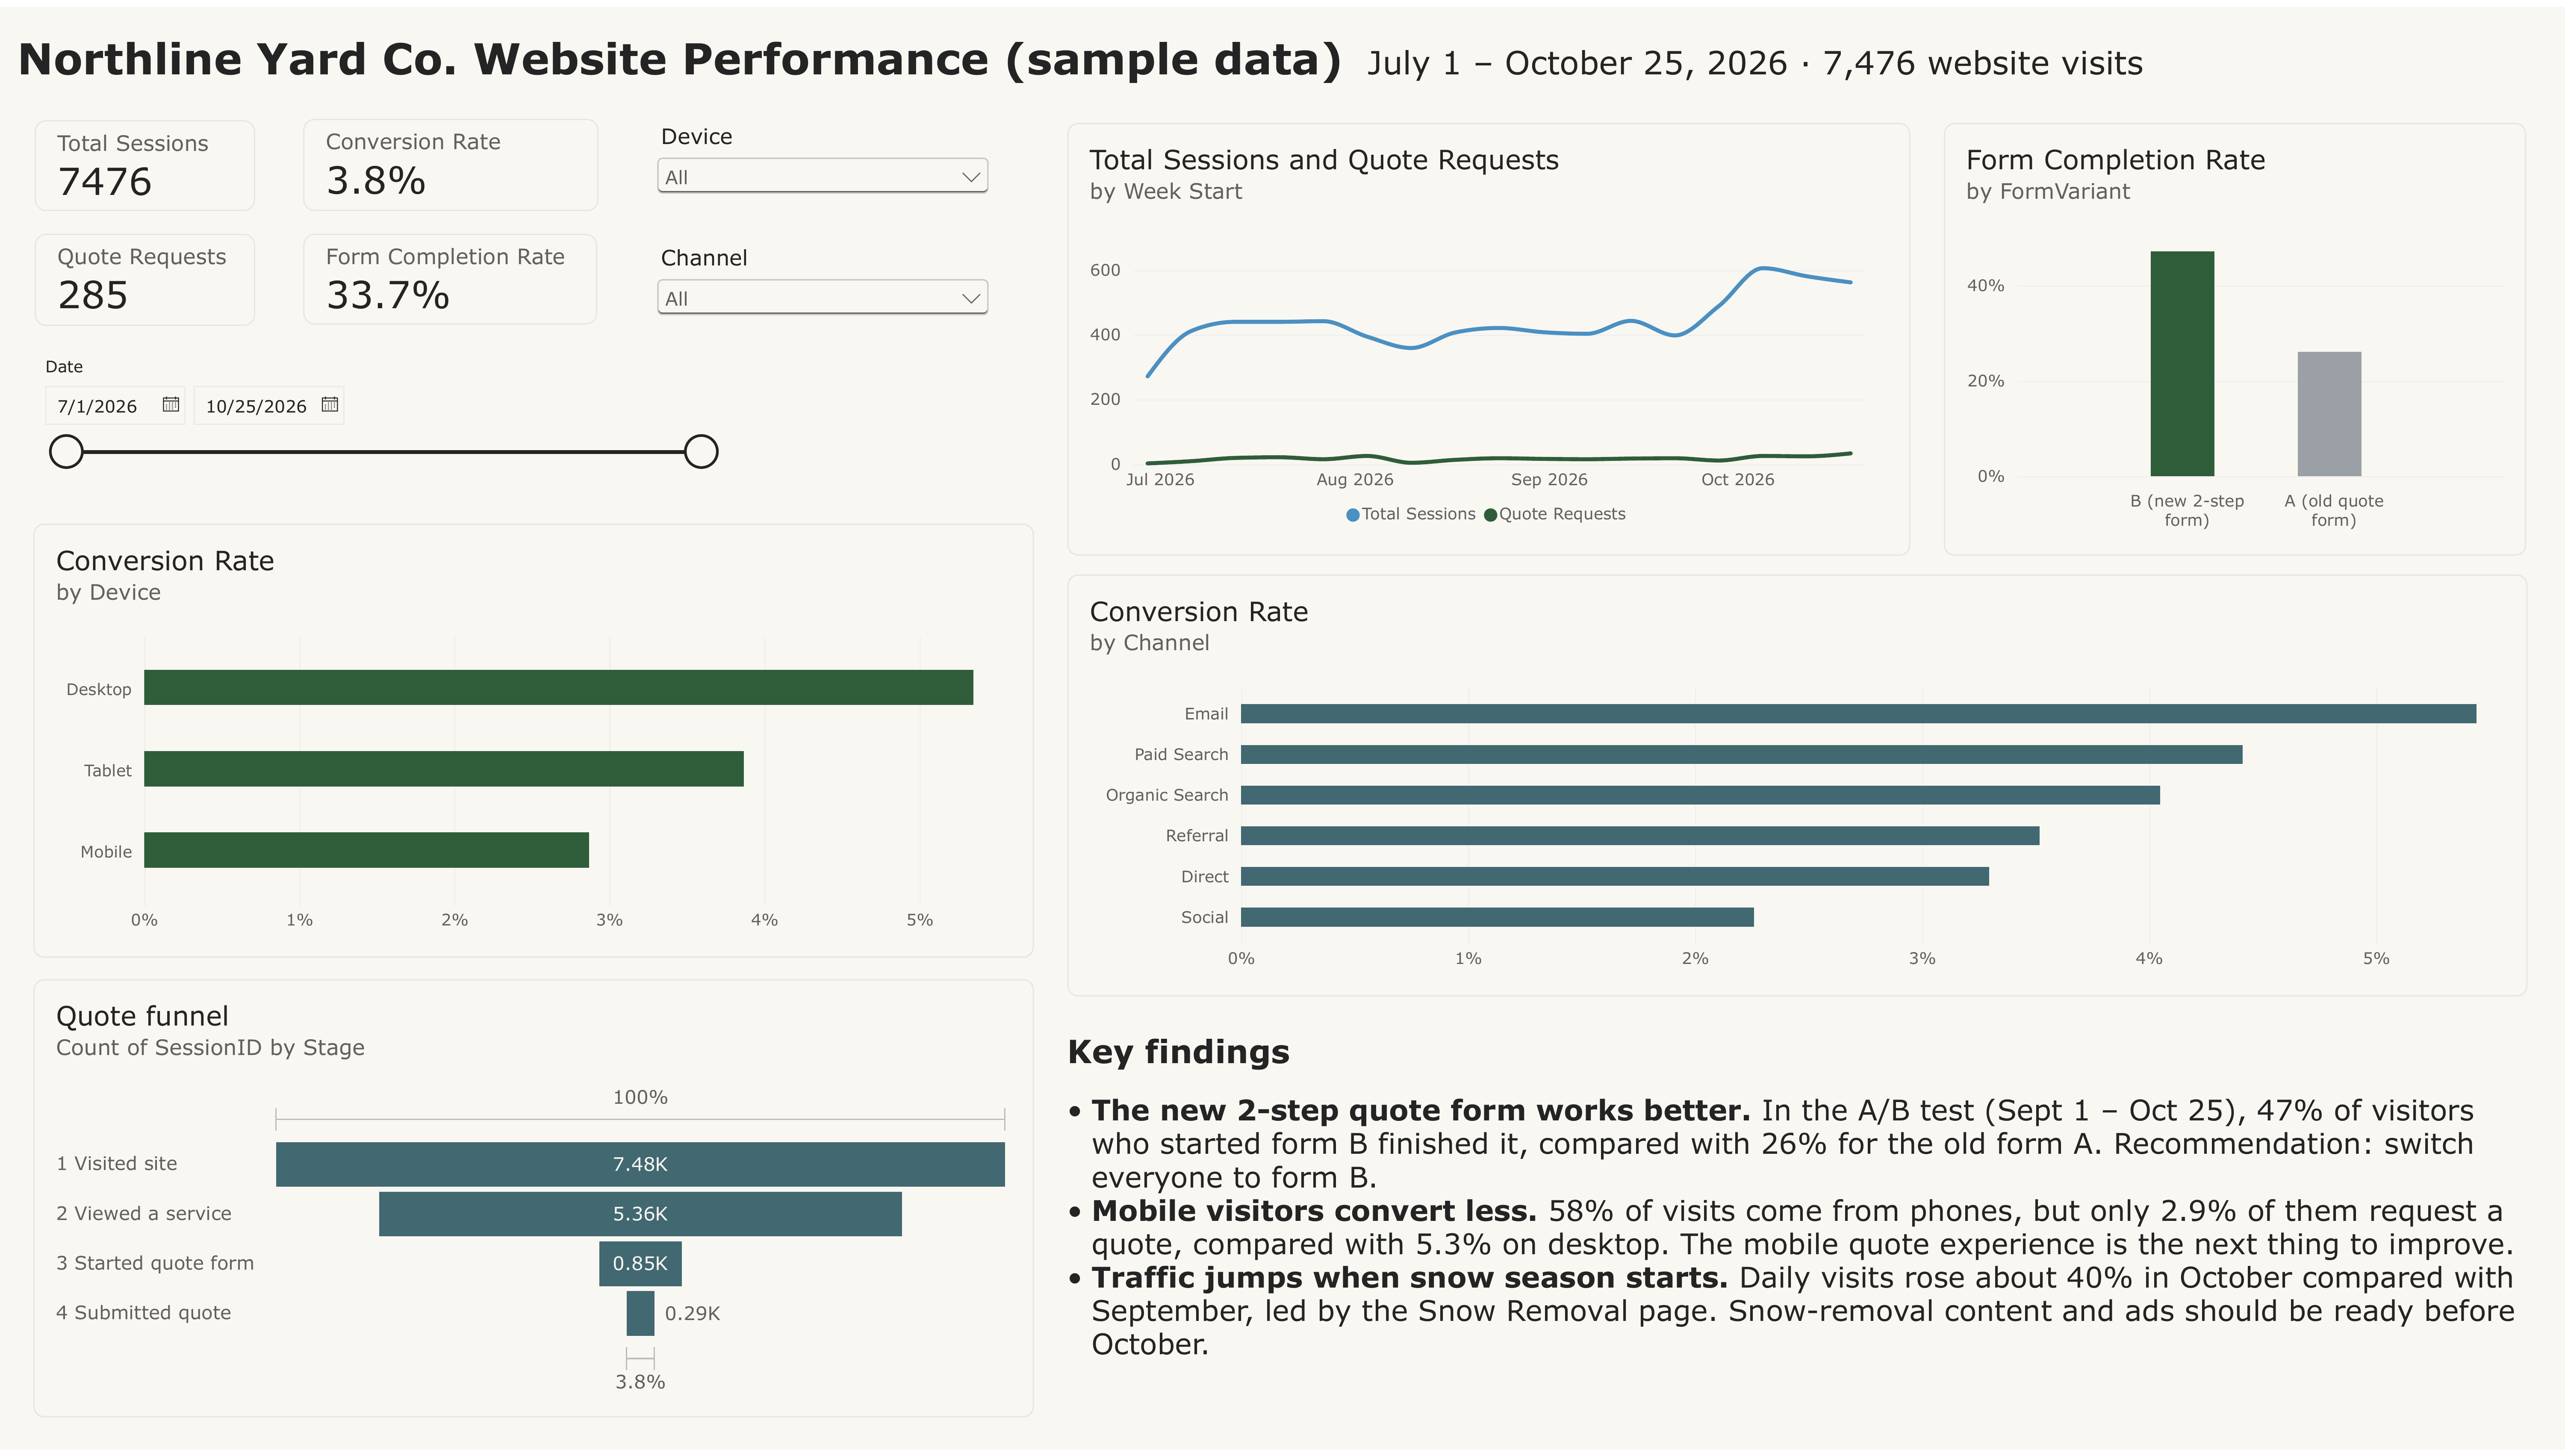

What the dashboard file says about the page in this screenshot:
{"tool":"powerbi","page":{"name":"Page 1","canvas":[1920,1080],"ordinal":0},"visuals":[{"type":"cardVisual","fields":{"Data":["Sessions.Total Sessions"]},"box":[25.5,85.1,165.7,68.7],"z":0},{"type":"cardVisual","fields":{"Data":["Sessions.Quote Requests"]},"box":[25.5,170.2,166,69.1],"z":1000},{"type":"cardVisual","fields":{"Data":["Sessions.Conversion Rate"]},"box":[226.6,84,221.3,69.1],"z":2000},{"type":"cardVisual","fields":{"Data":["Sessions.Form Completion Rate"]},"box":[226.6,170.2,220.9,68.7],"z":3000},{"type":"lineChart","fields":{"Category":["Sessions.Week Start"],"Y":["Sessions.Total Sessions","Sessions.Quote Requests"]},"box":[798.5,86.6,631.3,323.9],"z":4000},{"type":"clusteredBarChart","fields":{"Category":["Sessions.Channel"],"Y":["Sessions.Conversion Rate"]},"box":[798.5,425.4,1092.5,316.4],"z":5000},{"type":"clusteredBarChart","fields":{"Category":["Sessions.Device"],"Y":["Sessions.Conversion Rate"]},"box":[25.4,386.6,749.3,325.4],"z":6000},{"type":"clusteredColumnChart","fields":{"Category":["Sessions.FormVariant"],"Y":["Sessions.Form Completion Rate"]},"box":[1455.2,86.6,435.8,323.9],"z":7000},{"type":"funnel","title":"Quote funnel","fields":{"Category":["FunnelSteps.Stage"],"Y":["CountNonNull(FunnelSteps.SessionID)"]},"box":[25.4,728.4,749.3,328.4],"z":8000},{"type":"textbox","box":[13.4,19.4,995.5,44.8],"z":9000},{"type":"textbox","box":[1023.9,26.9,591,37.3],"z":10000},{"type":"textbox","box":[798.5,767.2,1092.5,289.6],"z":11000},{"type":"slicer","fields":{"Values":["Sessions.Date"]},"box":[25.5,261.7,514.9,104.5],"z":12000},{"type":"slicer","fields":{"Values":["Sessions.Channel"]},"box":[486.6,177.6,258.2,83.6],"z":13000},{"type":"slicer","fields":{"Values":["Sessions.Device"]},"box":[486.6,86.6,258.2,83.6],"z":14000}]}

Visuals, with their boxes in screenshot pixels (x1, y1, x2, y2), scaled from the page's 1920x1080 canvas onto the 2565x1456 screenshot:
cardVisual - Sessions.Total Sessions: <box>34,115,256,207</box>
cardVisual - Sessions.Quote Requests: <box>34,230,256,323</box>
cardVisual - Sessions.Conversion Rate: <box>303,113,598,206</box>
cardVisual - Sessions.Form Completion Rate: <box>303,230,598,322</box>
lineChart - Sessions.Week Start x Sessions.Total Sessions: <box>1067,117,1910,554</box>
clusteredBarChart - Sessions.Channel x Sessions.Conversion Rate: <box>1067,574,2526,1000</box>
clusteredBarChart - Sessions.Device x Sessions.Conversion Rate: <box>34,521,1035,960</box>
clusteredColumnChart - Sessions.FormVariant x Sessions.Form Completion Rate: <box>1944,117,2526,554</box>
"Quote funnel" funnel: <box>34,982,1035,1425</box>
textbox: <box>18,26,1348,86</box>
textbox: <box>1368,36,2158,86</box>
textbox: <box>1067,1035,2526,1425</box>
slicer - Sessions.Date: <box>34,353,722,494</box>
slicer - Sessions.Channel: <box>650,239,995,352</box>
slicer - Sessions.Device: <box>650,117,995,230</box>
